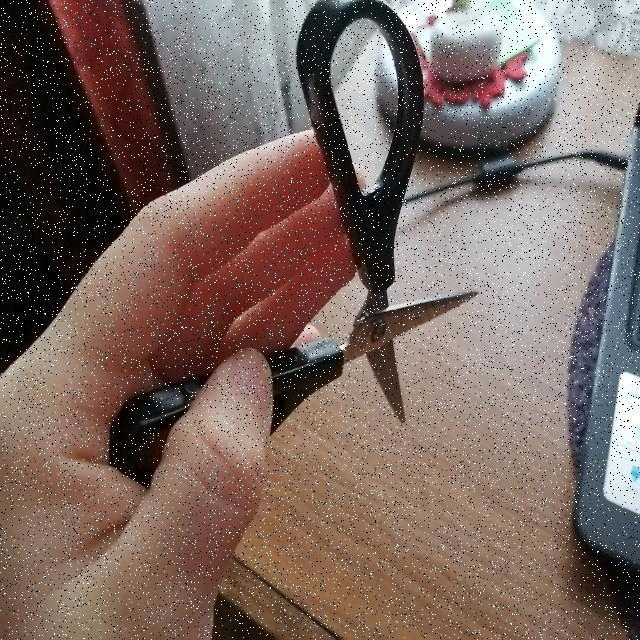scissors: (89, 0, 517, 512)
